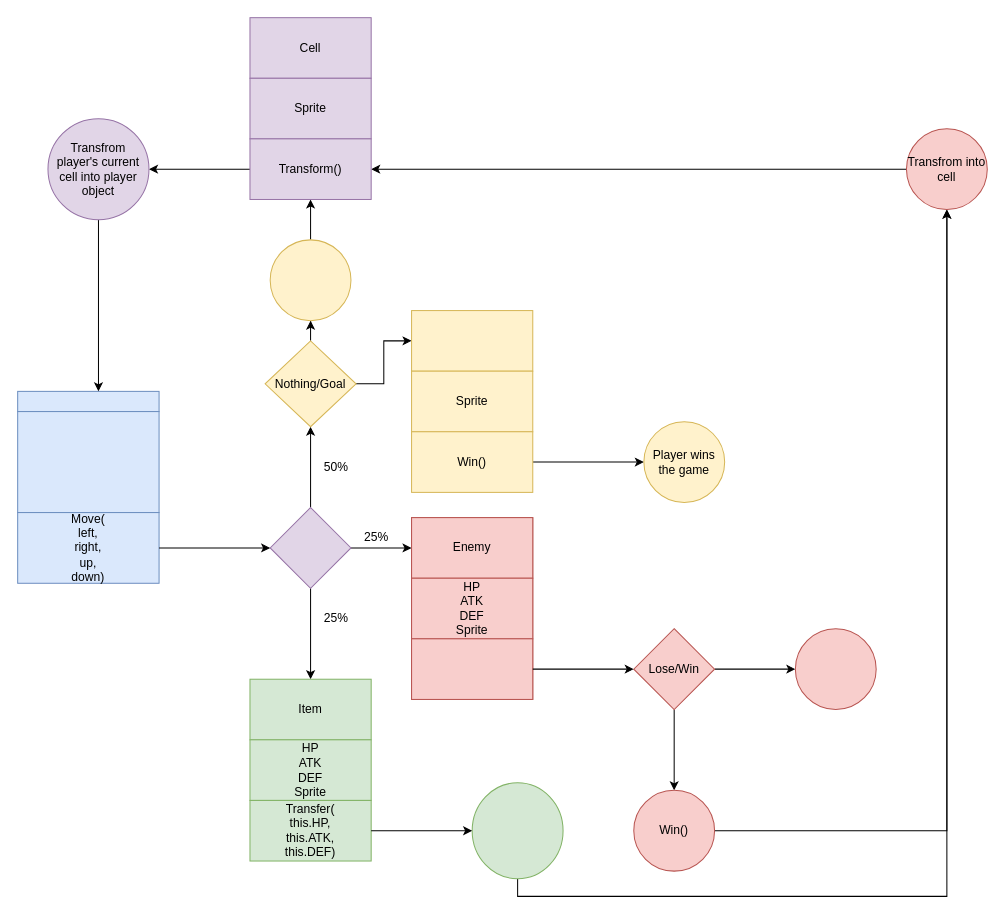
This 1005x922 diagram has some shape labels left out. Here are the shapes that lost their labels. From the top down, the box of each, then its label:
(269, 239, 351, 321): Transform player into cell
(411, 310, 533, 371): Goal
(17, 390, 159, 412): Player
(17, 411, 159, 513): HP ATK DEF Items Sprite
(269, 507, 351, 588): find()
(411, 638, 533, 699): Fight(Player, this)
(794, 628, 876, 710): Lose()
(471, 782, 563, 879): Transfer stats to player's stats
